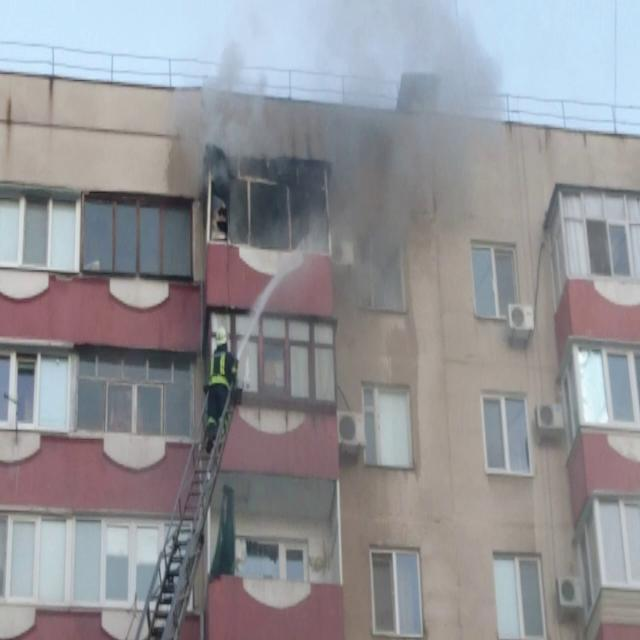Smoke: (330, 1, 514, 287), (164, 3, 274, 202)
